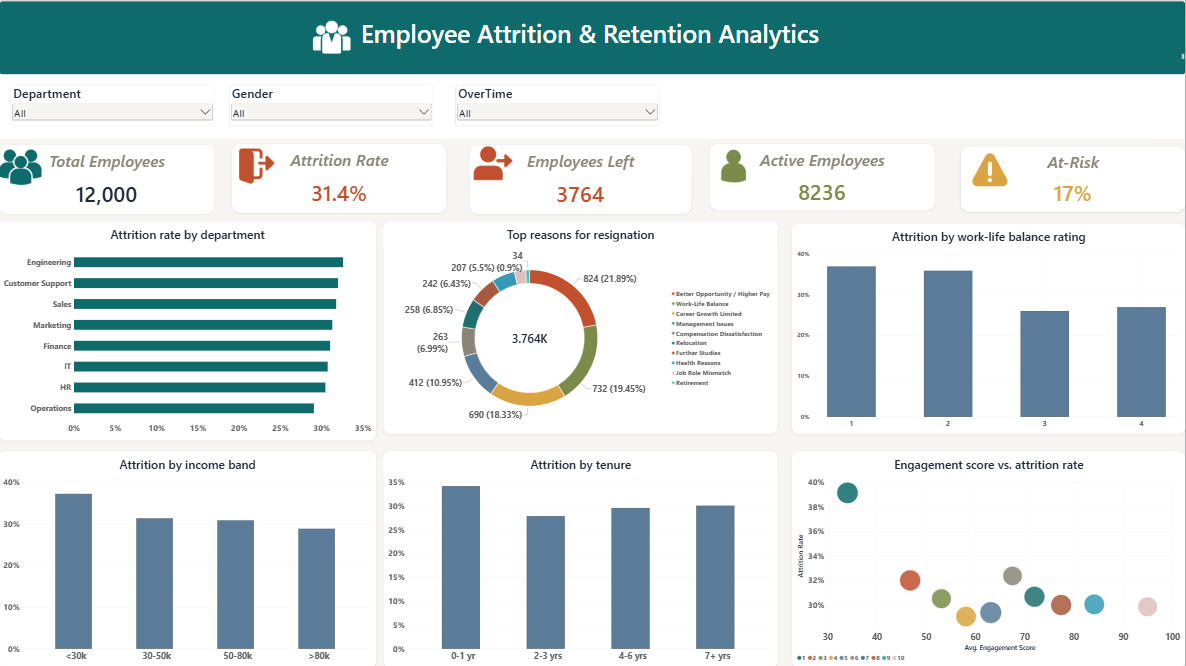

Layout of this report page (visuals, bound fields, positions):
{"tool":"powerbi","page":{"name":"Page 1","canvas":[3840,2160],"ordinal":0},"visuals":[{"type":"shape","box":[4,0,3836.8,238.5],"z":0,"group":"g6"},{"type":"shape","box":[4,238.5,3832.7,206.2],"z":0,"group":"g7"},{"type":"slicer","fields":{"Values":["hr_attrition_dataset.Department"]},"box":[40.4,270.8,659,133.4],"z":1000,"group":"g7"},{"type":"card","title":"Total Employees","fields":{"Values":["hr_attrition_dataset.Total Employees"]},"box":[4,464.9,695.4,226.4],"z":1000,"group":"g5"},{"type":"slicer","fields":{"Values":["hr_attrition_dataset.Gender"]},"box":[747.9,270.8,659,133.4],"z":2000,"group":"g7"},{"type":"card","title":"Attrition Rate","fields":{"Values":["hr_attrition_dataset.Attrition Rate"]},"box":[756.4,461.3,695.4,226.4],"z":2000,"group":"g4"},{"type":"slicer","fields":{"Values":["hr_attrition_dataset.OverTime"]},"box":[1479.7,270.8,659,133.4],"z":3000,"group":"g7"},{"type":"card","title":"Employees Left","fields":{"Values":["hr_attrition_dataset.Attrition Count"]},"box":[1524.2,465.5,719.6,225.8],"z":3000,"group":"g3"},{"type":"card","title":"Active Employees","fields":{"Values":["hr_attrition_dataset.Active Employees"]},"box":[2302.2,460.9,730,218.3],"z":4000,"group":"g2"},{"type":"clusteredBarChart","title":"Attrition rate by department","fields":{"Category":["hr_attrition_dataset.Department"],"Y":["hr_attrition_dataset.Attrition Rate"]},"box":[0,711.6,1225,711.6],"z":4000},{"type":"card","title":"At-Risk","fields":{"Values":["hr_attrition_dataset.At Risk %"]},"box":[3113.1,469,727.7,214.3],"z":5000,"group":"g1"},{"type":"donutChart","title":"Top reasons for resignation","fields":{"Category":["hr_attrition_dataset.ExitReason"],"Y":["Count(hr_attrition_dataset.EmployeeID)"]},"box":[1245.2,711.6,1277.6,691.3],"z":5000},{"type":"clusteredColumnChart","title":"Attrition by work-life balance rating","fields":{"Category":["hr_attrition_dataset.WorkLifeBalance"],"Y":["hr_attrition_dataset.Attrition Rate"]},"box":[2567.3,719.6,1273.5,683.3],"z":6000},{"type":"clusteredColumnChart","title":"Attrition by income band","fields":{"Y":["hr_attrition_dataset.Attrition Rate"],"Category":["hr_attrition_dataset.Income Band"]},"box":[0,1455.5,1225,703.5],"z":7000},{"type":"clusteredColumnChart","title":"Attrition by tenure","fields":{"Y":["hr_attrition_dataset.Attrition Rate"],"Category":["hr_attrition_dataset.Tenure Band"]},"box":[1245.2,1455.5,1277.6,703.5],"z":8000},{"type":"scatterChart","title":"Engagement score vs. attrition rate","fields":{"X":["Avg(hr_attrition_dataset.EngagementScore)"],"Y":["hr_attrition_dataset.Attrition Rate"],"Series":["hr_attrition_dataset.Engagement Decile"],"Size":["hr_attrition_dataset.Total Employees"]},"box":[2567.3,1455.5,1273.5,703.5],"z":9000},{"type":"group","id":"g1","title":"Group 1","box":[3105,469,735.8,214.3],"z":10000},{"type":"group","id":"g2","title":"Group 2","box":[2211.5,460.9,820.7,218.3],"z":11000},{"type":"group","id":"g3","title":"Group 3","box":[1524.2,464.9,719.6,226.4],"z":12000},{"type":"group","id":"g4","title":"Group 4","box":[743.9,461.3,707.9,226.4],"z":13000},{"type":"group","id":"g5","title":"Group 5","box":[4,452.8,695.4,238.5],"z":14000},{"type":"group","id":"g6","title":"Group 6","box":[-8.3,0,3849.1,238.5],"z":15000},{"type":"group","id":"g7","title":"Group 7","box":[4,238.5,3832.7,206.2],"z":15001},{"type":"image","box":[994.6,48.5,169.8,121.3],"z":15002},{"type":"textbox","title":"Employee Attrition & Retention Analytics","box":[-8.3,48.5,3844.9,157.7],"z":16000,"group":"g6"},{"type":"image","box":[4,452.8,136.5,169.8],"z":17000,"group":"g5"},{"type":"image","box":[743.9,477.1,185.7,113.2],"z":18000,"group":"g4"},{"type":"image","box":[1529.1,464.9,145.6,125],"z":19000,"group":"g3"},{"type":"image","box":[2211.5,480.4,335.5,105.3],"z":20000,"group":"g2"},{"type":"image","box":[3105,489.7,206.2,113.2],"z":21000,"group":"g1"}]}

Visuals, with their boxes in screenshot pixels (x1, y1, x2, y2), scaled from the page's 3840x2160 canvas onto the 1186x666 screenshot:
shape: left=1, top=0, right=1185, bottom=74
shape: left=1, top=74, right=1185, bottom=137
slicer - hr_attrition_dataset.Department: left=12, top=83, right=216, bottom=125
"Total Employees" card: left=1, top=143, right=216, bottom=213
slicer - hr_attrition_dataset.Gender: left=231, top=83, right=435, bottom=125
"Attrition Rate" card: left=234, top=142, right=448, bottom=212
slicer - hr_attrition_dataset.OverTime: left=457, top=83, right=661, bottom=125
"Employees Left" card: left=471, top=144, right=693, bottom=213
"Active Employees" card: left=711, top=142, right=937, bottom=209
"Attrition rate by department" clusteredBarChart: left=0, top=219, right=378, bottom=439
"At-Risk" card: left=961, top=145, right=1185, bottom=211
"Top reasons for resignation" donutChart: left=385, top=219, right=779, bottom=433
"Attrition by work-life balance rating" clusteredColumnChart: left=793, top=222, right=1185, bottom=433
"Attrition by income band" clusteredColumnChart: left=0, top=449, right=378, bottom=665
"Attrition by tenure" clusteredColumnChart: left=385, top=449, right=779, bottom=665
"Engagement score vs. attrition rate" scatterChart: left=793, top=449, right=1185, bottom=665
"Group 1" group: left=959, top=145, right=1185, bottom=211
"Group 2" group: left=683, top=142, right=937, bottom=209
"Group 3" group: left=471, top=143, right=693, bottom=213
"Group 4" group: left=230, top=142, right=448, bottom=212
"Group 5" group: left=1, top=140, right=216, bottom=213
"Group 6" group: left=0, top=0, right=1185, bottom=74
"Group 7" group: left=1, top=74, right=1185, bottom=137
image: left=307, top=15, right=360, bottom=52
"Employee Attrition & Retention Analytics" textbox: left=0, top=15, right=1185, bottom=64
image: left=1, top=140, right=43, bottom=192
image: left=230, top=147, right=287, bottom=182
image: left=472, top=143, right=517, bottom=182
image: left=683, top=148, right=787, bottom=181
image: left=959, top=151, right=1023, bottom=186
